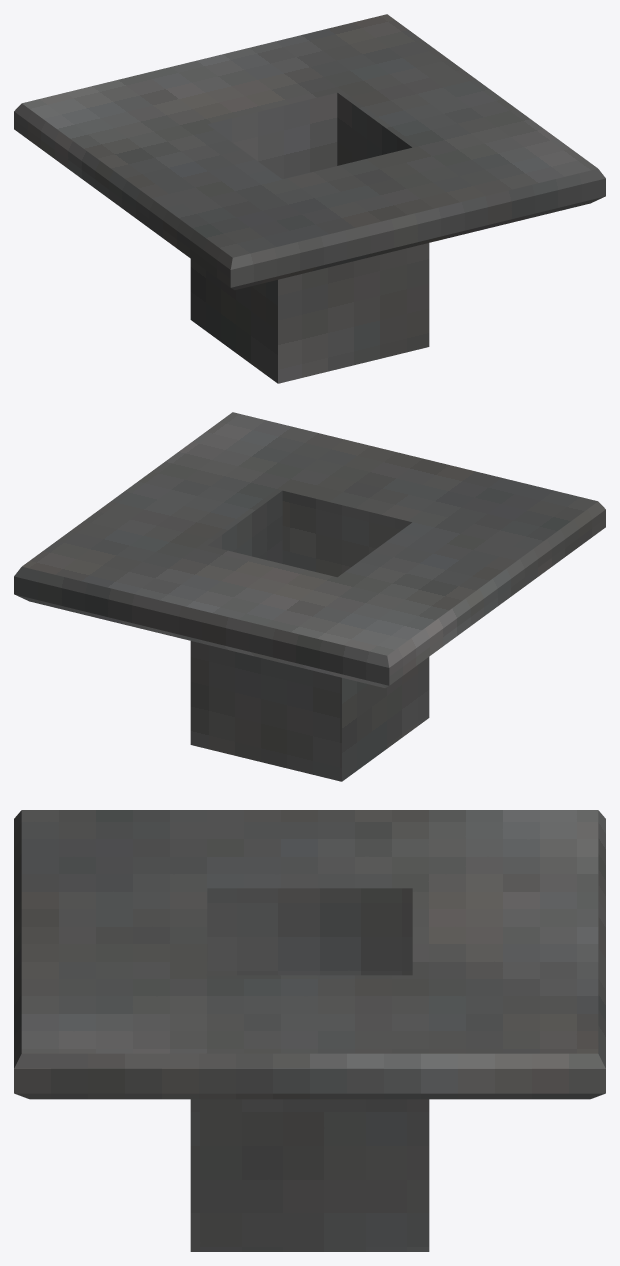
File: bellows_top_geo.obj
3 renders of one model, top to bottom at view 1: azimuth 30°, elevation 25°; view 2: azimuth 150°, elevation 25°; view 3: azimuth 270°, elevation 25°, orthographic. The views are drawn at different scales.
Visible parts, largest first — view 1: bellows_top_geo; view 2: bellows_top_geo; view 3: bellows_top_geo.
Part boxes in pixels (bbox=[...]): bellows_top_geo: bbox=[14, 14, 605, 383]; bellows_top_geo: bbox=[14, 412, 605, 781]; bellows_top_geo: bbox=[14, 810, 605, 1251].
Size of the model in its own units: 0.55 by 0.2765 by 0.55.
